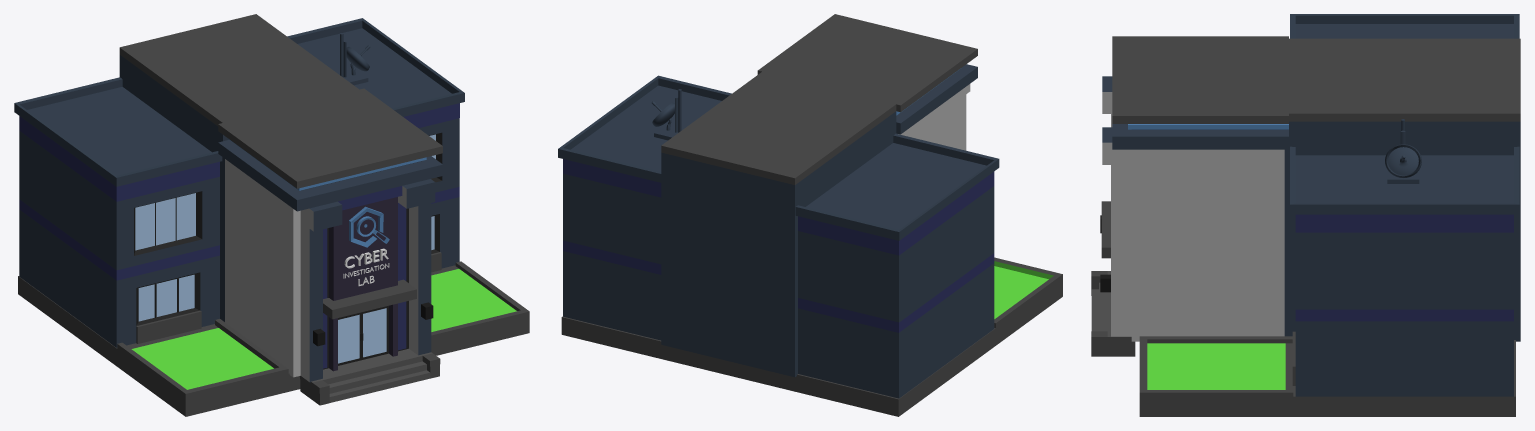
File: GedungCIL.fbx
The picture shows the model from 3 angles, left to right: view 1: azimuth 30°, elevation 25°; view 2: azimuth 150°, elevation 25°; view 3: azimuth 270°, elevation 25°; orthographic projection. The views are drawn at different scales.
Visible parts, largest first — view 1: Cube.007; view 2: Cube.007; view 3: Cube.007.
Part boxes in pixels (bbox=[...]): Cube.007: bbox=[14, 14, 529, 416]; Cube.007: bbox=[558, 14, 1062, 416]; Cube.007: bbox=[1091, 14, 1520, 416].
Bounding box in the file's own units: 3291 × 2084 × 3132.
